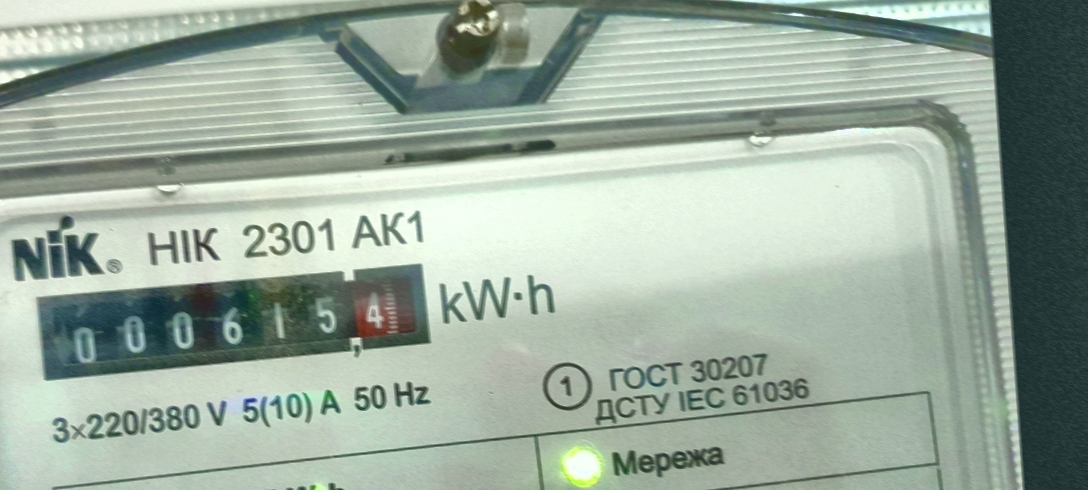0: (169, 306, 196, 350), (70, 321, 98, 363), (121, 310, 147, 352)
1: (271, 297, 287, 339)
4: (362, 286, 384, 328)
5: (313, 290, 339, 334)
6: (218, 302, 245, 344)
screen: (22, 249, 444, 391)
